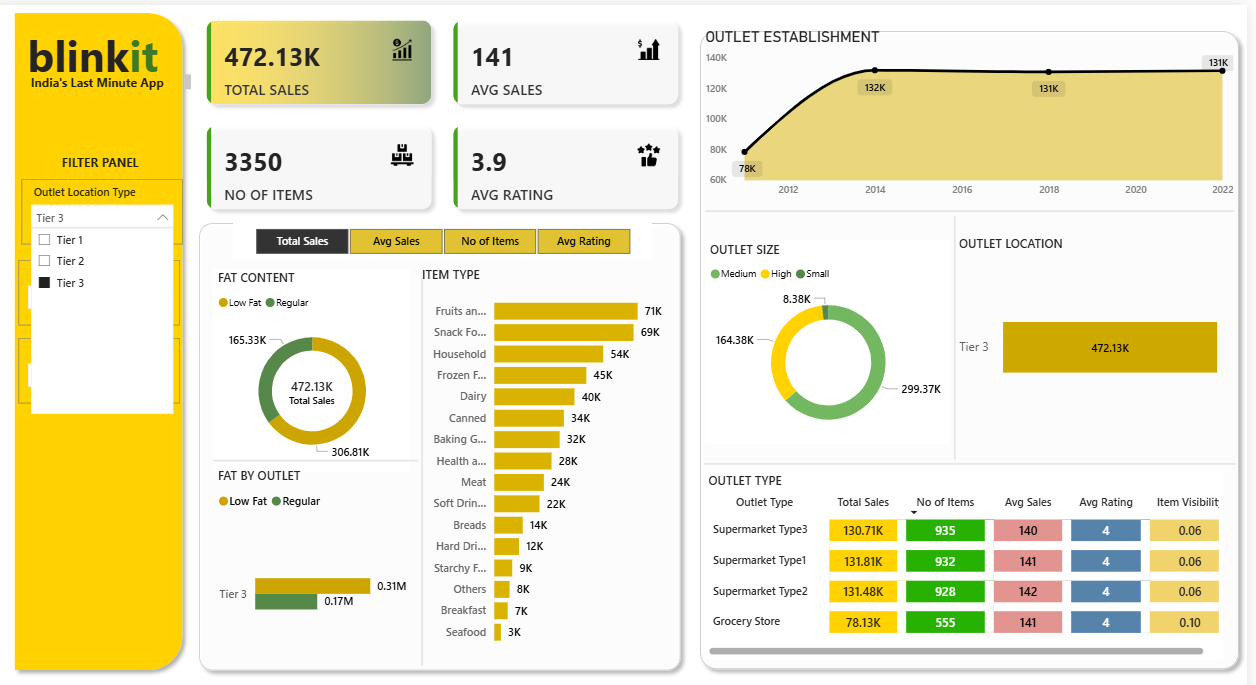

Layout of this report page (visuals, bound fields, positions):
{"tool":"powerbi","page":{"name":"Page 1","canvas":[1400,800],"ordinal":0},"visuals":[{"type":"shape","box":[22.4,0,204.5,747.8],"z":0},{"type":"textbox","box":[39.6,17.2,168.8,82.7],"z":1000},{"type":"textbox","box":[274.5,0,205,748],"z":2000},{"type":"textbox","box":[596.1,51.7,205,747.7],"z":3000},{"type":"textbox","box":[22.4,72.4,210.2,27.6],"z":4000},{"type":"cardVisual","fields":{"Data":["BlinkIT Grocery Data.Total Sales","BlinkIT Grocery Data.Avg Sales","BlinkIT Grocery Data.No of Items","BlinkIT Grocery Data.Avg Rating"]},"box":[225.9,0,558.2,245.9],"z":5000},{"type":"shape","box":[227.4,232.6,553,515.1],"z":6000},{"type":"donutChart","title":"FAT CONTENT","fields":{"Y":["BlinkIT Grocery Data.Total Sales"],"Category":["BlinkIT Grocery Data.Item Fat Content"]},"box":[251.5,292.9,218.8,225.7],"z":7000},{"type":"cardVisual","fields":{"Data":["BlinkIT Grocery Data.Total Sales"]},"box":[303.2,384.2,115.4,91.3],"z":8000},{"type":"clusteredBarChart","title":"FAT BY OUTLET","fields":{"Y":["BlinkIT Grocery Data.Total Sales"],"Category":["BlinkIT Grocery Data.Outlet Location Type"],"Series":["BlinkIT Grocery Data.Item Fat Content"]},"box":[251.5,513.4,218.8,229.1],"z":9000},{"type":"shape","box":[861.3,271.6,212.5,238.1],"z":10000},{"type":"shape","box":[377.3,303.2,213.6,430.7],"z":11000},{"type":"barChart","title":"ITEM TYPE","fields":{"Y":["BlinkIT Grocery Data.Total Sales"],"Category":["BlinkIT Grocery Data.Item Type"]},"box":[478.9,289.4,289.4,430.7],"z":12000},{"type":"shape","box":[783,20.8,616.8,727],"z":13000},{"type":"slicer","fields":{"Values":["Metrics 2.Metrics"]},"box":[273.9,241.2,465.1,41.3],"z":14000},{"type":"lineChart","title":"OUTLET ESTABLISHMENT","fields":{"Category":["BlinkIT Grocery Data.Outlet Establishment Year"],"Y":["BlinkIT Grocery Data.Total Sales"]},"box":[792.6,25.6,596,196.5],"z":15000},{"type":"shape","box":[797.6,156.8,587.5,144.7],"z":16000},{"type":"shape","box":[251.5,466.9,227.4,79.2],"z":17000},{"type":"donutChart","title":"OUTLET SIZE","fields":{"Category":["BlinkIT Grocery Data.Outlet Size"],"Y":["BlinkIT Grocery Data.Total Sales"]},"box":[797.6,261.9,272.2,225.7],"z":18000},{"type":"shape","box":[963,234.3,224,270.5],"z":19000},{"type":"funnel","title":"OUTLET LOCATION","fields":{"Y":["Sum(BlinkIT Grocery Data.Sales)"],"Category":["BlinkIT Grocery Data.Outlet Location Type"]},"box":[1075,255,301.5,230.8],"z":20000},{"type":"shape","box":[795.9,437.6,590.9,143],"z":21000},{"type":"pivotTable","title":"OUTLET TYPE","fields":{"Values":["BlinkIT Grocery Data.Total Sales","BlinkIT Grocery Data.No of Items","BlinkIT Grocery Data.Avg Sales","BlinkIT Grocery Data.Avg Rating","Avg(BlinkIT Grocery Data.Item Visibility)"],"Rows":["BlinkIT Grocery Data.Outlet Type"]},"box":[797.4,517.7,576.8,209.3],"z":22000},{"type":"slicer","fields":{"Values":["BlinkIT Grocery Data.Outlet Location Type"]},"box":[37.9,192.9,179.2,72.4],"z":23000},{"type":"slicer","fields":{"Values":["BlinkIT Grocery Data.Outlet Size"]},"box":[34.5,282.5,179.2,72.4],"z":24000},{"type":"slicer","fields":{"Values":["BlinkIT Grocery Data.Item Type"]},"box":[34.5,370.4,179.2,72.4],"z":25000},{"type":"textbox","box":[79.2,160.2,96.5,32.7],"z":26000}]}

Visuals, with their boxes on the page's 1400x800 design canvas (x1, y1, x2, y2). These are canvas units, not pixel positions in the 1256x685 screenshot, which may show the page scaled, cropped or inside an application window:
shape: [x1=22, y1=0, x2=227, y2=748]
textbox: [x1=40, y1=17, x2=208, y2=100]
textbox: [x1=274, y1=0, x2=480, y2=748]
textbox: [x1=596, y1=52, x2=801, y2=799]
textbox: [x1=22, y1=72, x2=233, y2=100]
cardVisual - BlinkIT Grocery Data.Total Sales x BlinkIT Grocery Data.Avg Sales: [x1=226, y1=0, x2=784, y2=246]
shape: [x1=227, y1=233, x2=780, y2=748]
"FAT CONTENT" donutChart: [x1=252, y1=293, x2=470, y2=519]
cardVisual - BlinkIT Grocery Data.Total Sales: [x1=303, y1=384, x2=419, y2=476]
"FAT BY OUTLET" clusteredBarChart: [x1=252, y1=513, x2=470, y2=742]
shape: [x1=861, y1=272, x2=1074, y2=510]
shape: [x1=377, y1=303, x2=591, y2=734]
"ITEM TYPE" barChart: [x1=479, y1=289, x2=768, y2=720]
shape: [x1=783, y1=21, x2=1400, y2=748]
slicer - Metrics 2.Metrics: [x1=274, y1=241, x2=739, y2=282]
"OUTLET ESTABLISHMENT" lineChart: [x1=793, y1=26, x2=1389, y2=222]
shape: [x1=798, y1=157, x2=1385, y2=302]
shape: [x1=252, y1=467, x2=479, y2=546]
"OUTLET SIZE" donutChart: [x1=798, y1=262, x2=1070, y2=488]
shape: [x1=963, y1=234, x2=1187, y2=505]
"OUTLET LOCATION" funnel: [x1=1075, y1=255, x2=1376, y2=486]
shape: [x1=796, y1=438, x2=1387, y2=581]
"OUTLET TYPE" pivotTable: [x1=797, y1=518, x2=1374, y2=727]
slicer - BlinkIT Grocery Data.Outlet Location Type: [x1=38, y1=193, x2=217, y2=265]
slicer - BlinkIT Grocery Data.Outlet Size: [x1=34, y1=282, x2=214, y2=355]
slicer - BlinkIT Grocery Data.Item Type: [x1=34, y1=370, x2=214, y2=443]
textbox: [x1=79, y1=160, x2=176, y2=193]
